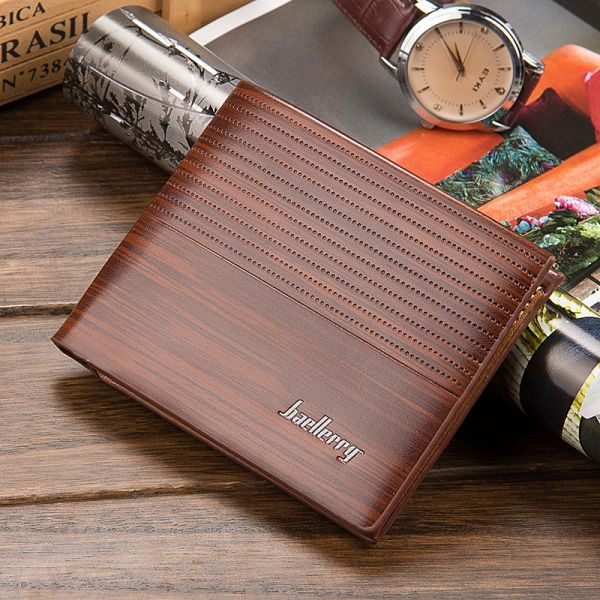monedero: (47, 75, 568, 548)
